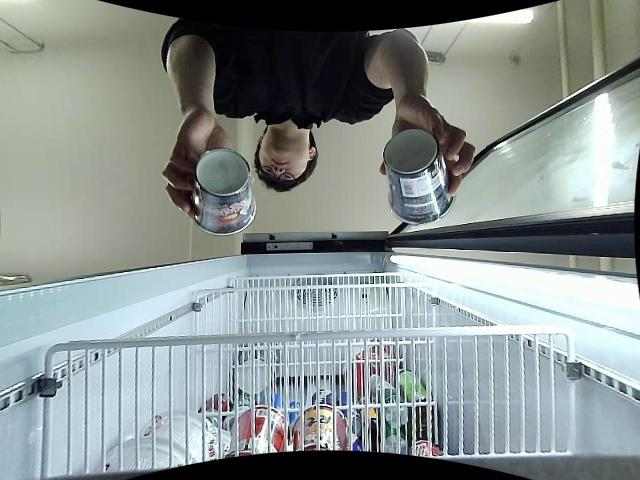00_hand: (381, 103, 476, 197), (163, 112, 231, 219)
08_buldak_S: (384, 127, 457, 225), (188, 147, 258, 236)
